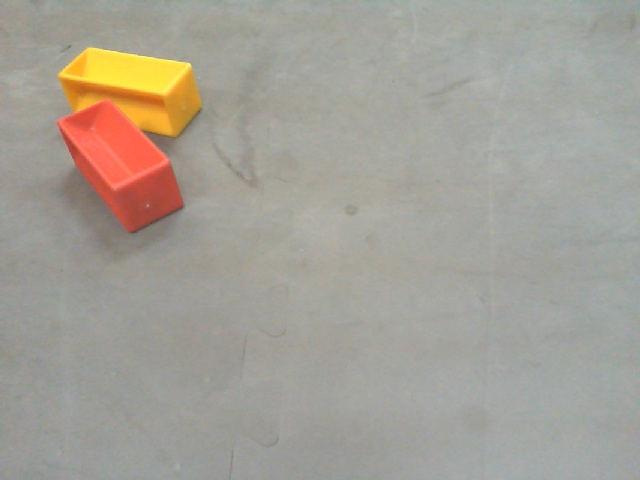RedSample: (54, 100, 186, 239)
YellowSample: (54, 44, 210, 140)
